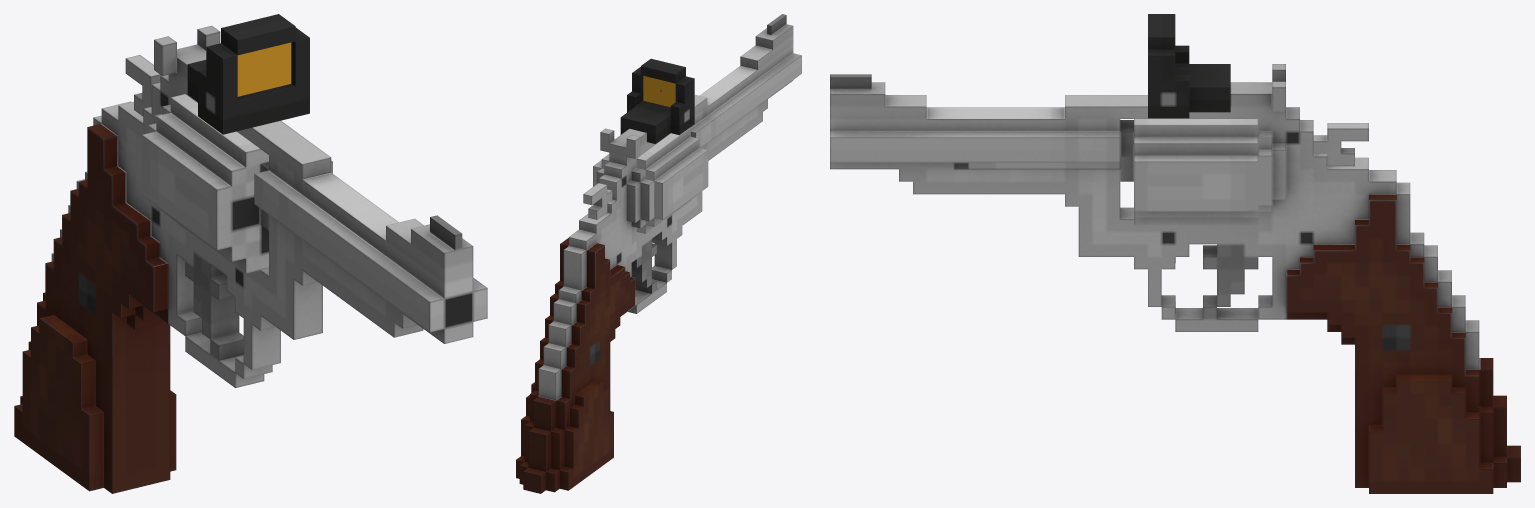
The model's file is RD_MAGNUM44.glb.
3 views of the same model, side by side, from view 1: azimuth 30°, elevation 25°; view 2: azimuth 150°, elevation 25°; view 3: azimuth 270°, elevation 25° (orthographic). The views are drawn at different scales.
Parts seen in each view (by area): view 1: MAGNUM44, MAGNUM44__CLIP_P1, SCOPE_TRIJICON, MAGNUM44_TRIGGER; view 2: MAGNUM44, SCOPE_TRIJICON, MAGNUM44__CLIP_P1, MAGNUM44_TRIGGER; view 3: MAGNUM44, MAGNUM44__CLIP_P1, SCOPE_TRIJICON, MAGNUM44_TRIGGER, MAGNUM44__CLIP_P2.
Boxes of the visible parts, left/top/right/bottom form: MAGNUM44: left=14, top=25, right=487, bottom=493; MAGNUM44__CLIP_P1: left=141, top=94, right=332, bottom=273; SCOPE_TRIJICON: left=187, top=14, right=309, bottom=134; MAGNUM44_TRIGGER: left=125, top=55, right=160, bottom=116; MAGNUM44: left=516, top=14, right=801, bottom=493; SCOPE_TRIJICON: left=620, top=58, right=694, bottom=143; MAGNUM44__CLIP_P1: left=593, top=127, right=708, bottom=233; MAGNUM44_TRIGGER: left=583, top=183, right=612, bottom=219; MAGNUM44: left=830, top=64, right=1520, bottom=493; MAGNUM44__CLIP_P1: left=1120, top=119, right=1258, bottom=225; SCOPE_TRIJICON: left=1148, top=14, right=1230, bottom=118; MAGNUM44_TRIGGER: left=1313, top=123, right=1368, bottom=166; MAGNUM44__CLIP_P2: left=968, top=162, right=1120, bottom=169.
Size of the model in its own units: 0.0787 by 0.3543 by 0.4921.
3 materials, 3 textured.
